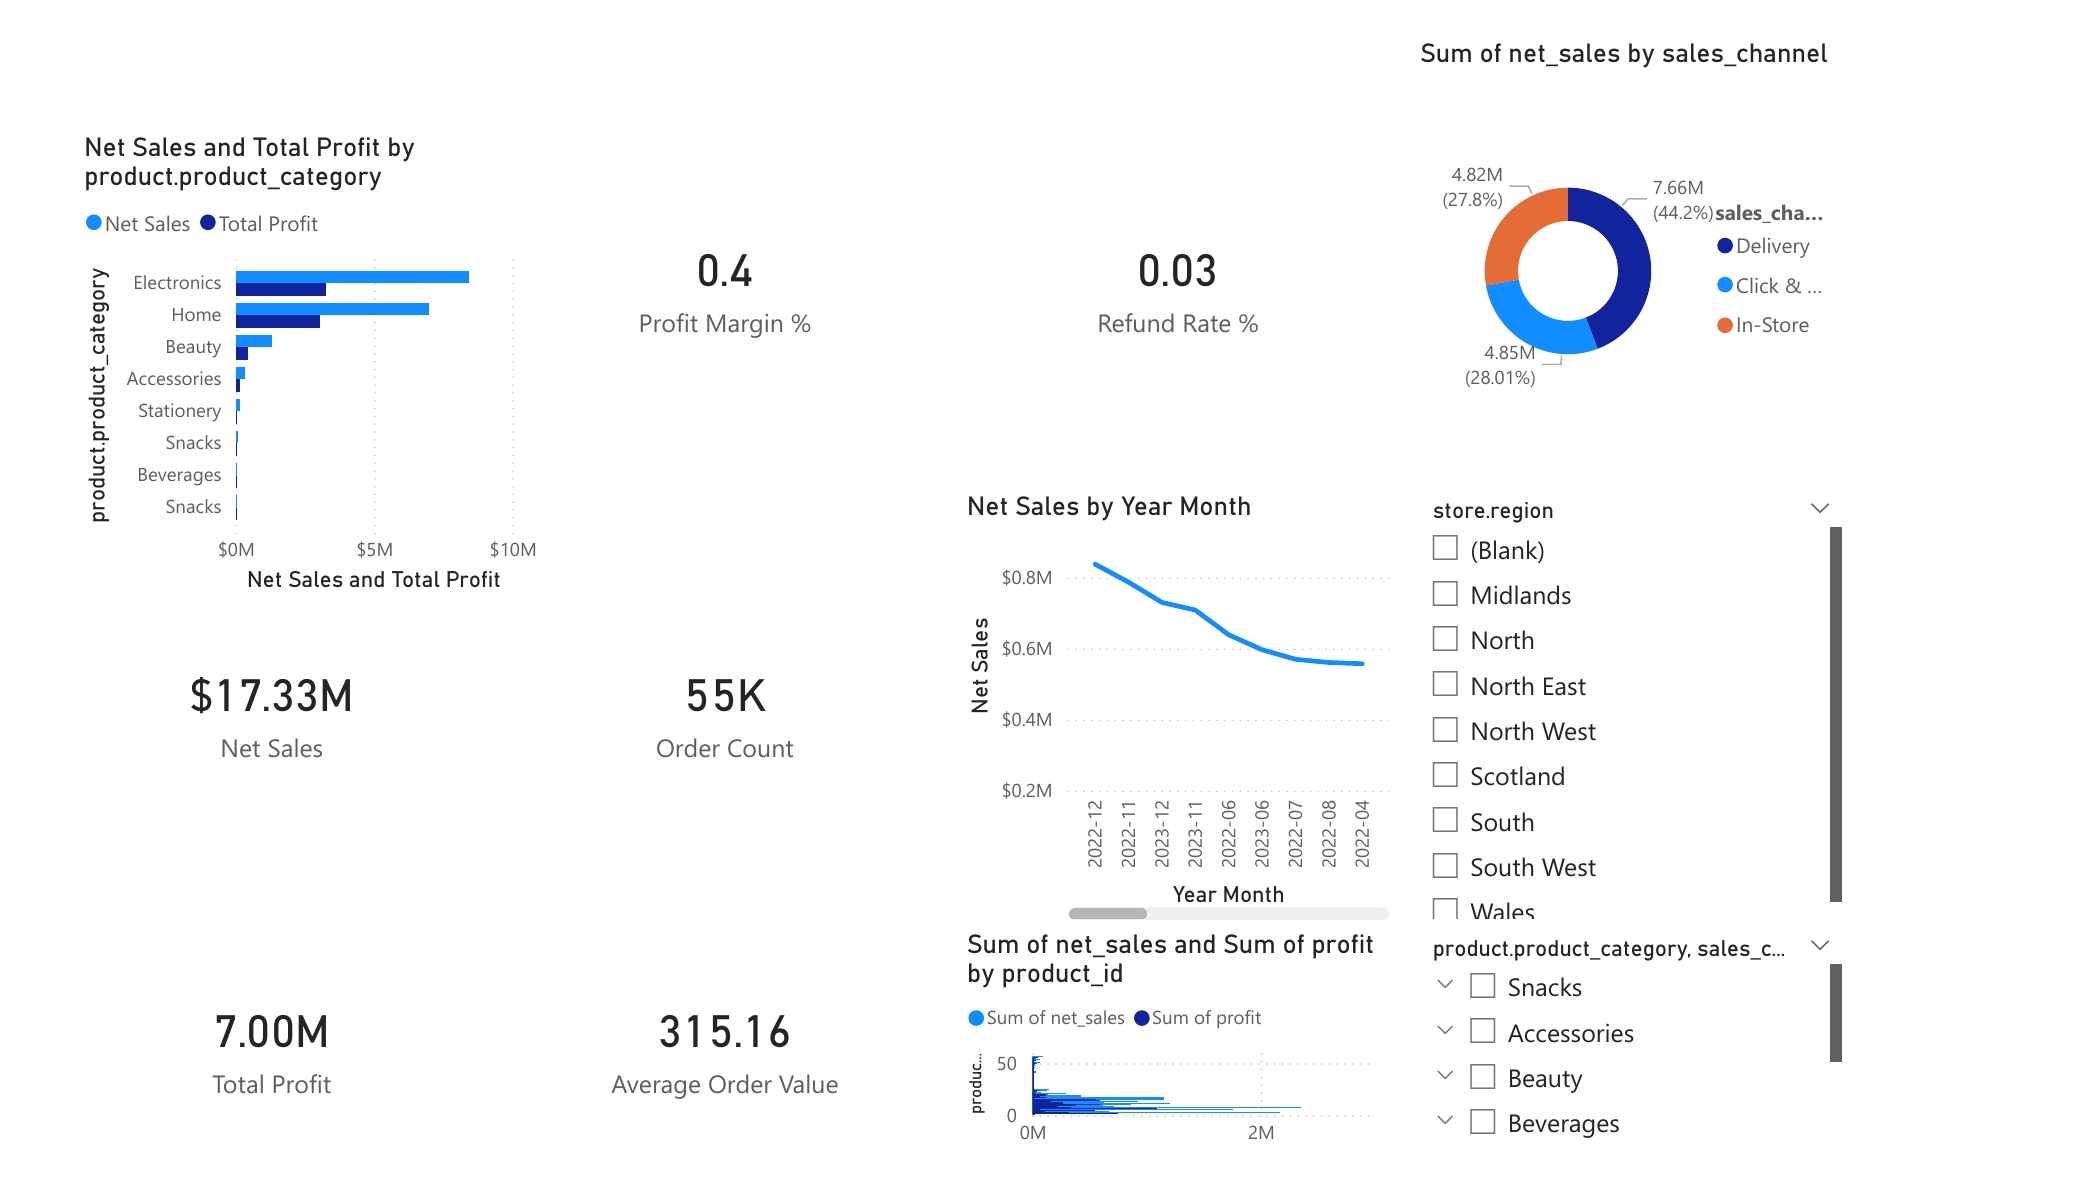

The dashboard page shown, as its layout file describes it:
{"tool":"powerbi","page":{"name":"Page 1","canvas":[1280,720],"ordinal":0},"visuals":[{"type":"textbox","box":[10,0,720,36],"z":0},{"type":"card","fields":{"Values":["DimDate.Net Sales"]},"box":[10,290,280,280],"z":1000},{"type":"card","fields":{"Values":["DimDate.Total Profit"]},"box":[10,570,280,150],"z":2000},{"type":"card","fields":{"Values":["DimDate.Profit Margin %"]},"box":[300,36,280,244],"z":3000},{"type":"card","fields":{"Values":["DimDate.Order Count"]},"box":[300,290,280,280],"z":4000},{"type":"card","fields":{"Values":["DimDate.Average Order Value"]},"box":[300,570,280,150],"z":5000},{"type":"card","fields":{"Values":["DimDate.Refund Rate %"]},"box":[590,36,280,244],"z":6000},{"type":"lineChart","fields":{"Category":["DimDate.Year Month"],"Y":["DimDate.Net Sales"]},"box":[590,290,280,280],"z":7000},{"type":"clusteredBarChart","fields":{"Category":["Fact_Sales.product_id"],"Y":["Sum(Fact_Sales.net_sales)","Sum(Fact_Sales.profit)"]},"box":[590,570,280,150],"z":8000},{"type":"donutChart","fields":{"Category":["Fact_Sales.sales_channel"],"Y":["Sum(Fact_Sales.net_sales)"]},"box":[880,0,280,280],"z":9000},{"type":"slicer","fields":{"Values":["Dim_Store.store.region"]},"box":[880,290,280,280],"z":10000},{"type":"slicer","fields":{"Values":["Dim_Product.product.product_category","Fact_Sales.sales_channel"]},"box":[880,570,280,150],"z":11000},{"type":"clusteredBarChart","fields":{"Category":["Dim_Product.product.product_category"],"Y":["DimDate.Net Sales","DimDate.Total Profit"]},"box":[25,60,300,300],"z":12000},{"type":"actionButton","box":[0,0,100,40],"z":12001}]}

Visuals, with their boxes on the page's 1280x720 design canvas (x1, y1, x2, y2). These are canvas units, not pixel positions in the 2075x1200 screenshot, which may show the page scaled, cropped or inside an application window:
textbox: rect(10, 0, 730, 36)
card - DimDate.Net Sales: rect(10, 290, 290, 570)
card - DimDate.Total Profit: rect(10, 570, 290, 720)
card - DimDate.Profit Margin %: rect(300, 36, 580, 280)
card - DimDate.Order Count: rect(300, 290, 580, 570)
card - DimDate.Average Order Value: rect(300, 570, 580, 720)
card - DimDate.Refund Rate %: rect(590, 36, 870, 280)
lineChart - DimDate.Year Month x DimDate.Net Sales: rect(590, 290, 870, 570)
clusteredBarChart - Fact_Sales.product_id x Sum(Fact_Sales.net_sales): rect(590, 570, 870, 720)
donutChart - Fact_Sales.sales_channel x Sum(Fact_Sales.net_sales): rect(880, 0, 1160, 280)
slicer - Dim_Store.store.region: rect(880, 290, 1160, 570)
slicer - Dim_Product.product.product_category x Fact_Sales.sales_channel: rect(880, 570, 1160, 720)
clusteredBarChart - Dim_Product.product.product_category x DimDate.Net Sales: rect(25, 60, 325, 360)
actionButton: rect(0, 0, 100, 40)
